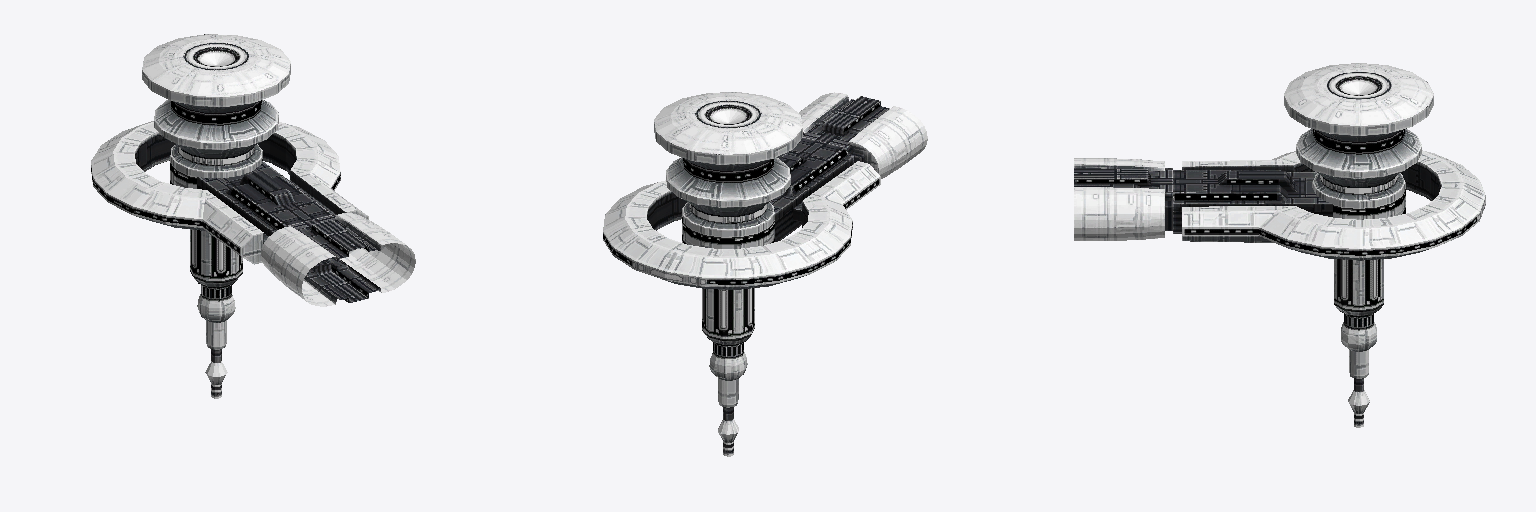
3 views of the same model, side by side, from view 1: azimuth 30°, elevation 25°; view 2: azimuth 150°, elevation 25°; view 3: azimuth 270°, elevation 25° (orthographic).
Parts seen in each view (by area): view 1: humanoid_01_orbital_station_science_section|g_body|g_bodyShape; view 2: humanoid_01_orbital_station_science_section|g_body|g_bodyShape; view 3: humanoid_01_orbital_station_science_section|g_body|g_bodyShape.
Part boxes in pixels (bbox=[...]): humanoid_01_orbital_station_science_section|g_body|g_bodyShape: bbox=[91, 34, 415, 398]; humanoid_01_orbital_station_science_section|g_body|g_bodyShape: bbox=[603, 92, 927, 456]; humanoid_01_orbital_station_science_section|g_body|g_bodyShape: bbox=[1074, 63, 1485, 427].
Bounding box in the file's own units: 0.0001 × 0.0001 × 0.0001.
Materials: 1 (1 with a texture image).